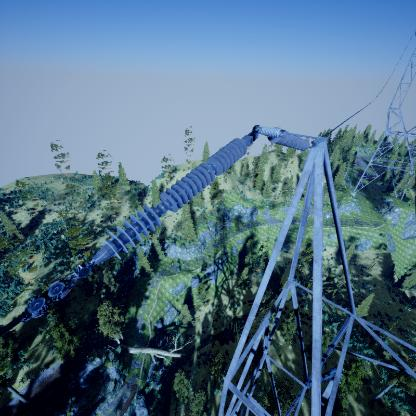insulator: (93, 132, 255, 265), (268, 125, 312, 154)
